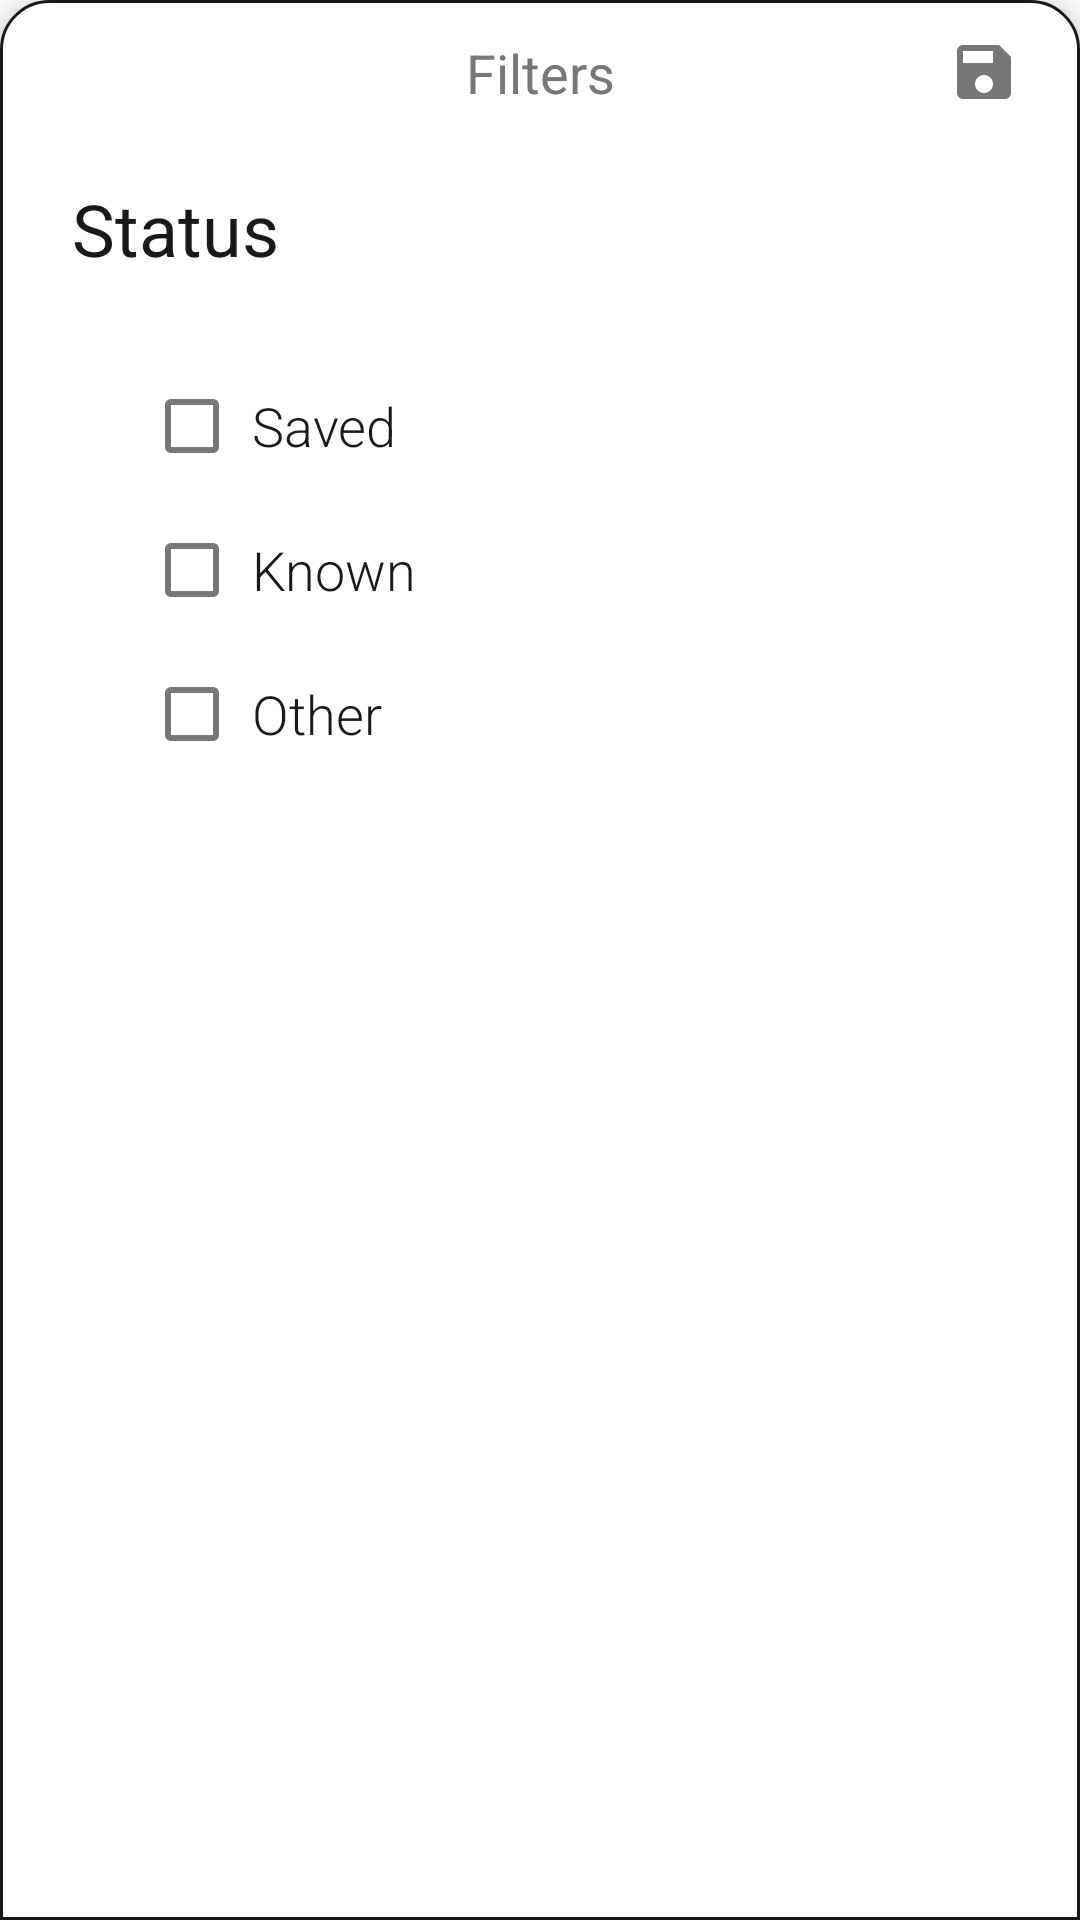

Icon bounding boxes for this 1080 x 1920 phone screenshot, format (x1, y1, x2, y2):
Save new word: (957, 45, 1011, 99)
